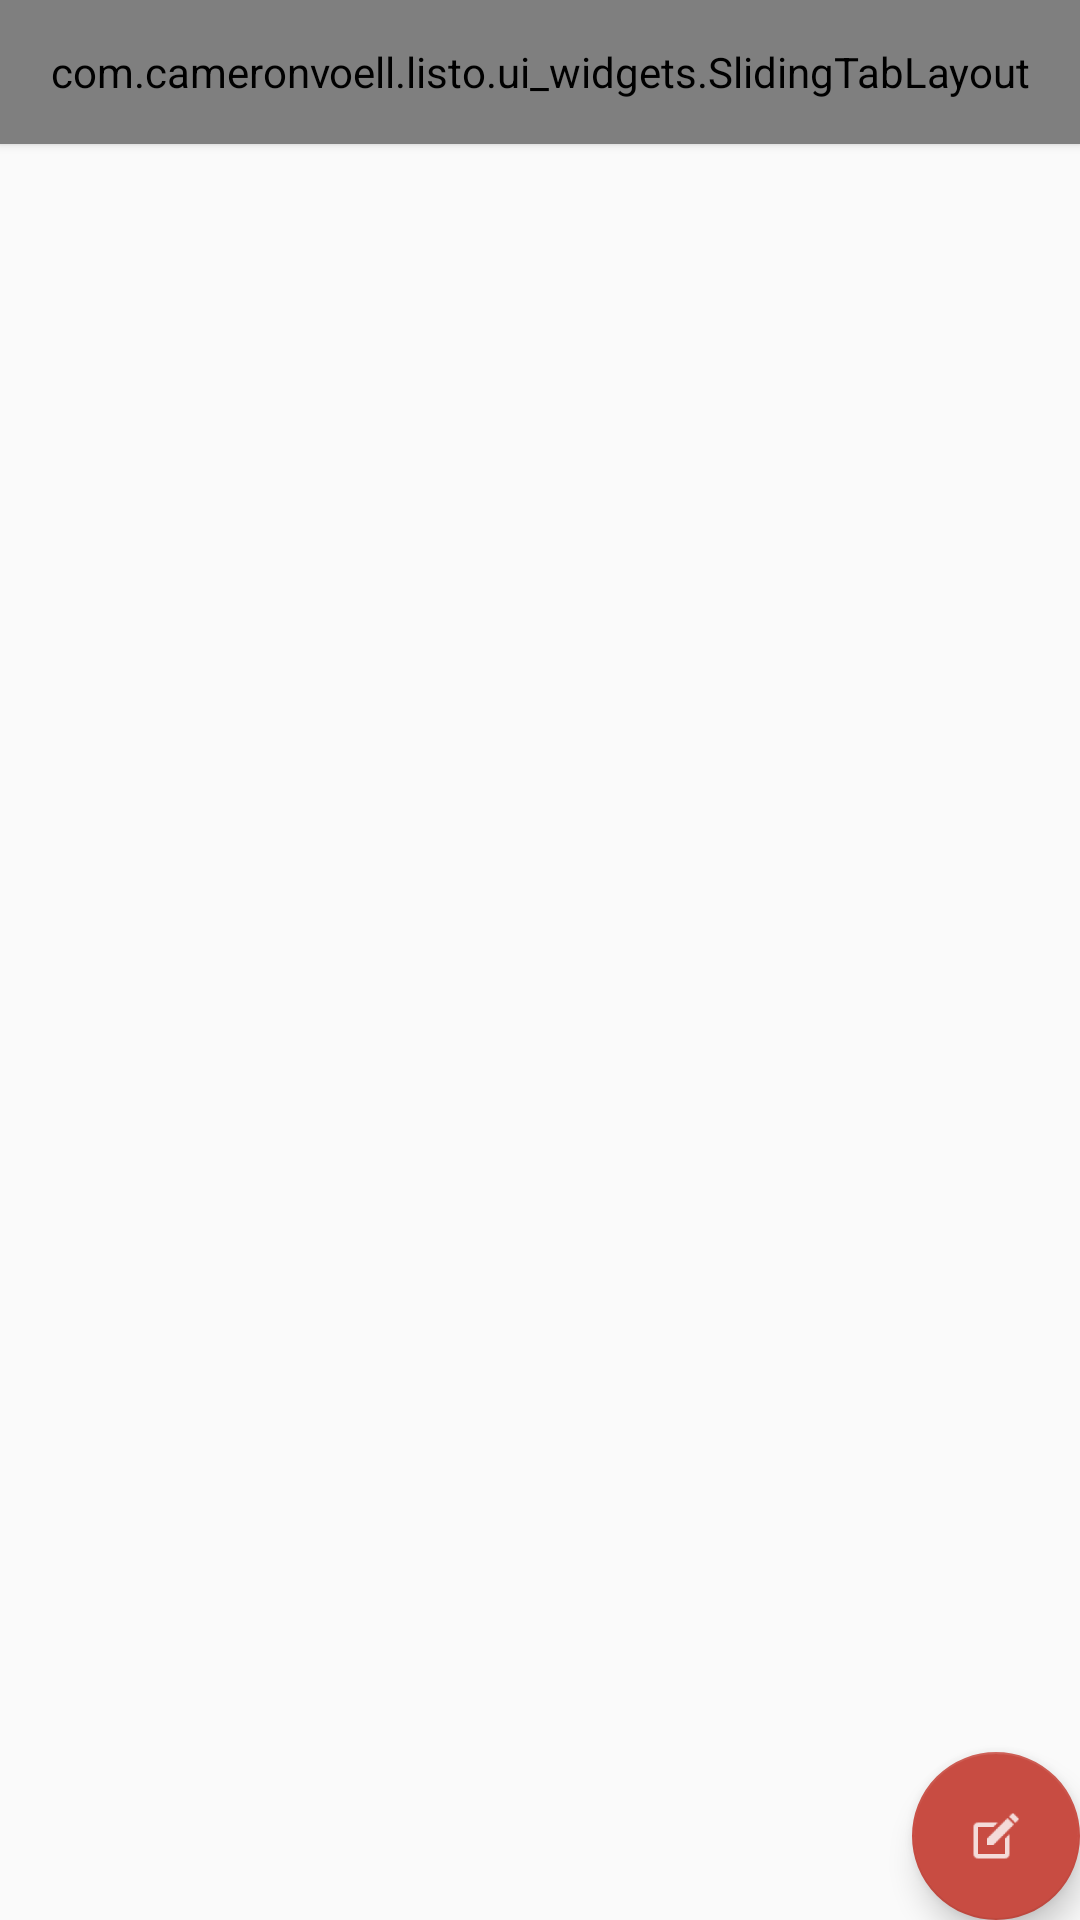

Icon click points for this 1080*1920 phone screenshot, format point (x, y):
listo create: point (996, 1836)
